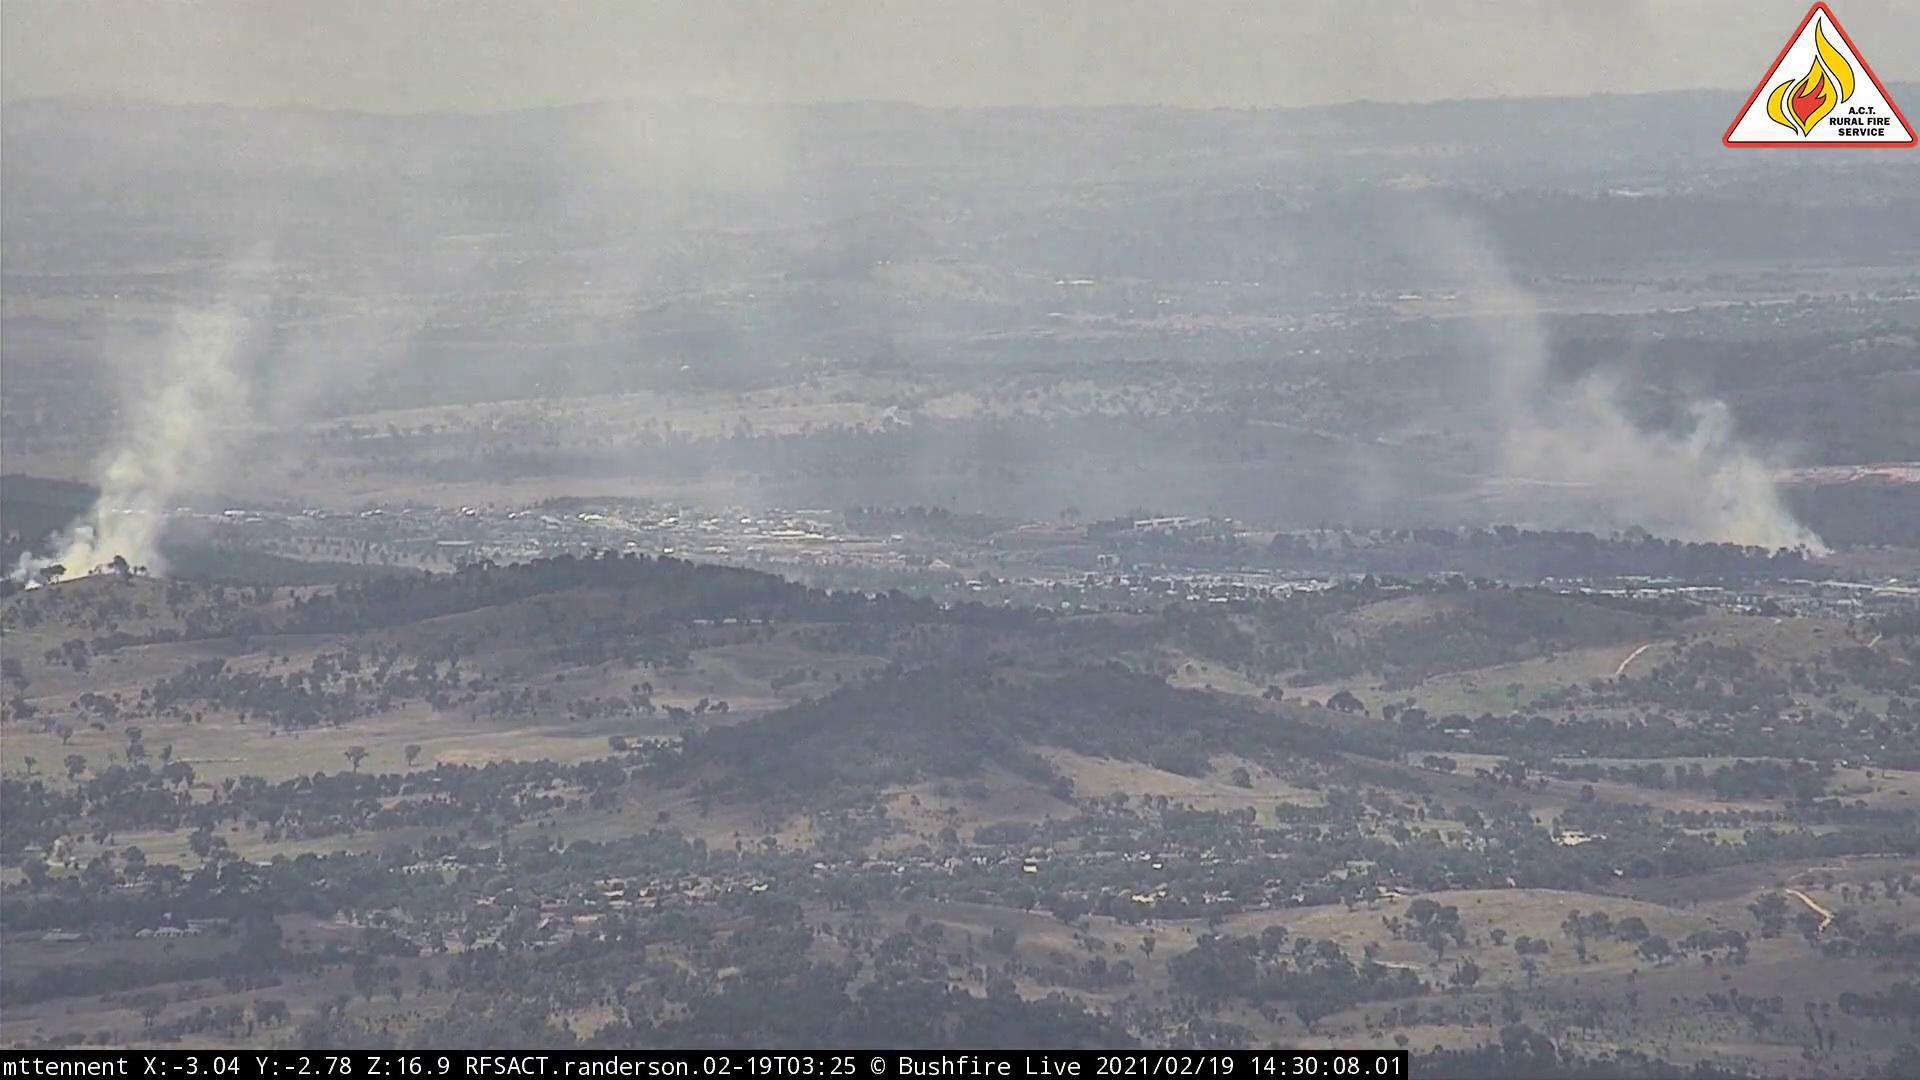Smoke: (1373, 208, 1844, 564), (13, 248, 443, 599)
